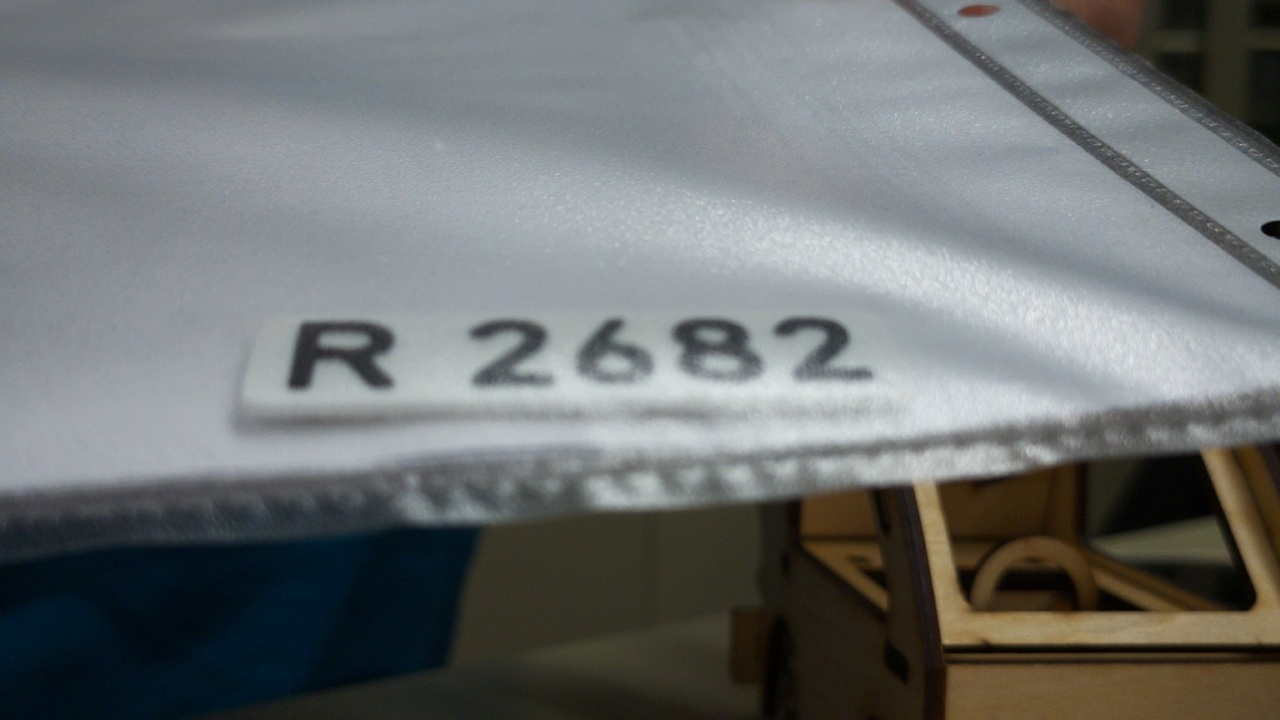license_plate: (236, 301, 920, 425)
